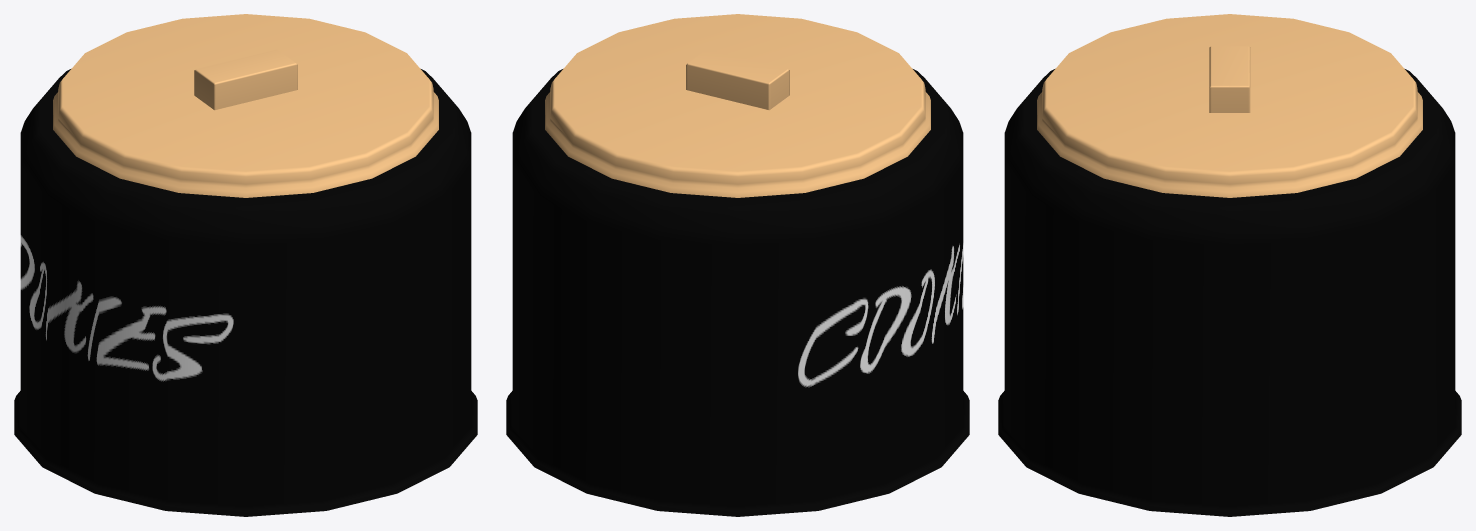
The model's file is PR_cookieJar_01v6 (1).fbx.
3 renders of one model, left to right at view 1: azimuth 30°, elevation 25°; view 2: azimuth 150°, elevation 25°; view 3: azimuth 270°, elevation 25°, orthographic.
Parts seen in each view (by area): view 1: cookiejar, cover, handle; view 2: cookiejar, cover, handle; view 3: cookiejar, cover, handle.
Boxes of the visible parts, bbox=[...] form: cookiejar: bbox=[14, 69, 477, 516]; cover: bbox=[53, 14, 438, 197]; handle: bbox=[194, 49, 297, 110]; cookiejar: bbox=[506, 69, 969, 516]; cover: bbox=[545, 14, 930, 197]; handle: bbox=[686, 49, 789, 110]; cookiejar: bbox=[998, 69, 1461, 516]; cover: bbox=[1037, 14, 1422, 197]; handle: bbox=[1209, 46, 1250, 112].
Size of the model in its own units: 1598 by 1318 by 1573.
Materials: 1 (1 with a texture image).
